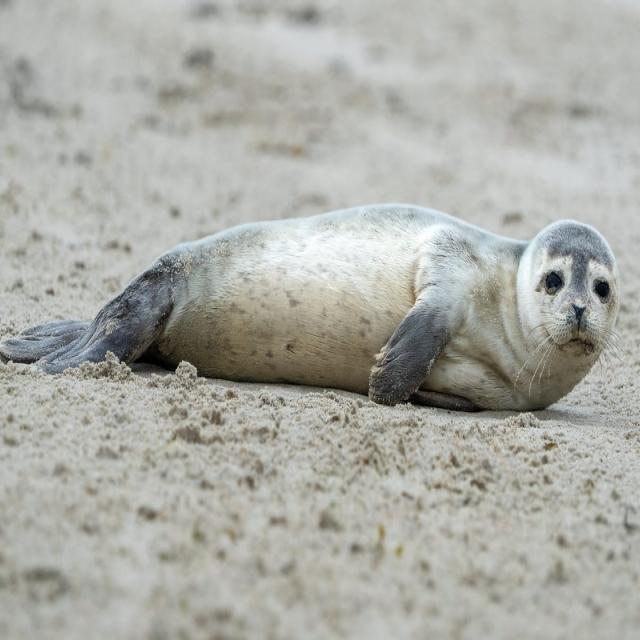WaterDog: (0, 206, 623, 398)
